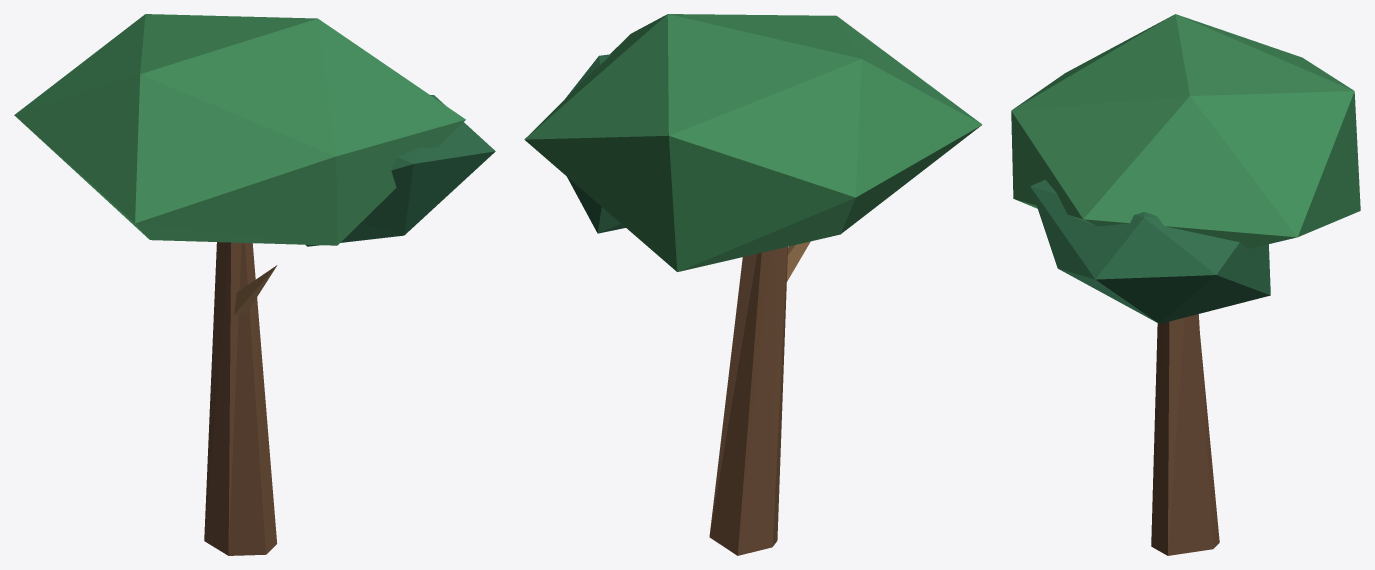
The model's file is world_tree_canopy_s.obj.
3 views of the same model, side by side, from view 1: azimuth 30°, elevation 25°; view 2: azimuth 150°, elevation 25°; view 3: azimuth 270°, elevation 25° (orthographic). The views are drawn at different scales.
Visible parts, largest first — view 1: world_tree_canopy_s; view 2: world_tree_canopy_s; view 3: world_tree_canopy_s.
Part boxes in pixels (bbox=[...]): world_tree_canopy_s: bbox=[14, 14, 495, 555]; world_tree_canopy_s: bbox=[524, 14, 982, 555]; world_tree_canopy_s: bbox=[1011, 14, 1360, 555].
Size of the model in its own units: 6.42 by 8.24 by 5.37.
